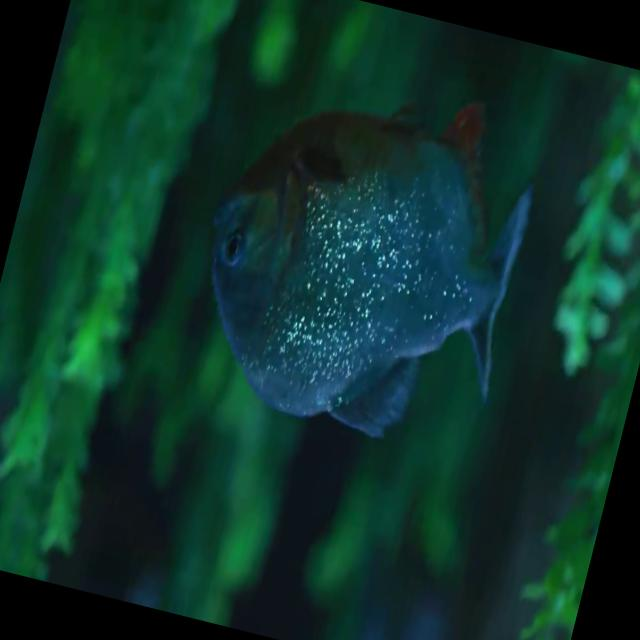fish: (171, 49, 552, 462)
